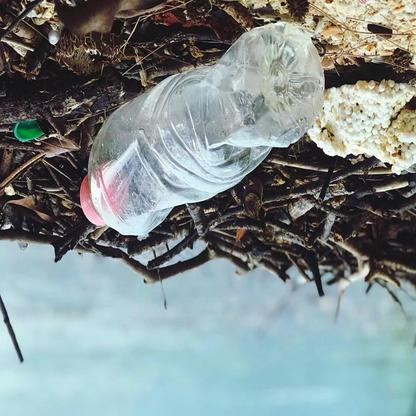plastic bottle: (78, 20, 327, 238)
